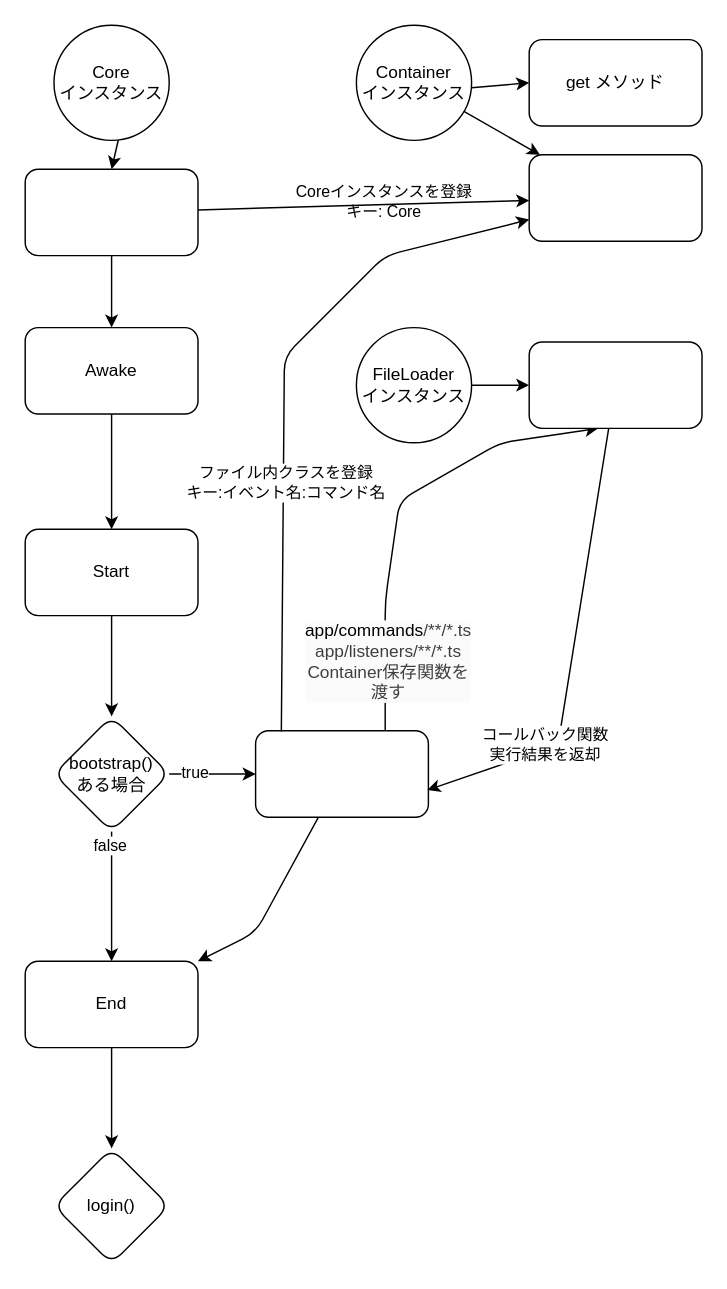
Image size: 727x1289. Some labels were removed from this diagram. The box of each missing label's shape, as (x1, y1, x2, y2) in pixels:
appのファイルを ロード: (254, 729, 428, 817)
Discord.jsのclient をsuper: (24, 168, 198, 256)
load メソッド: (528, 341, 702, 428)
register メソッド: (528, 153, 702, 241)
